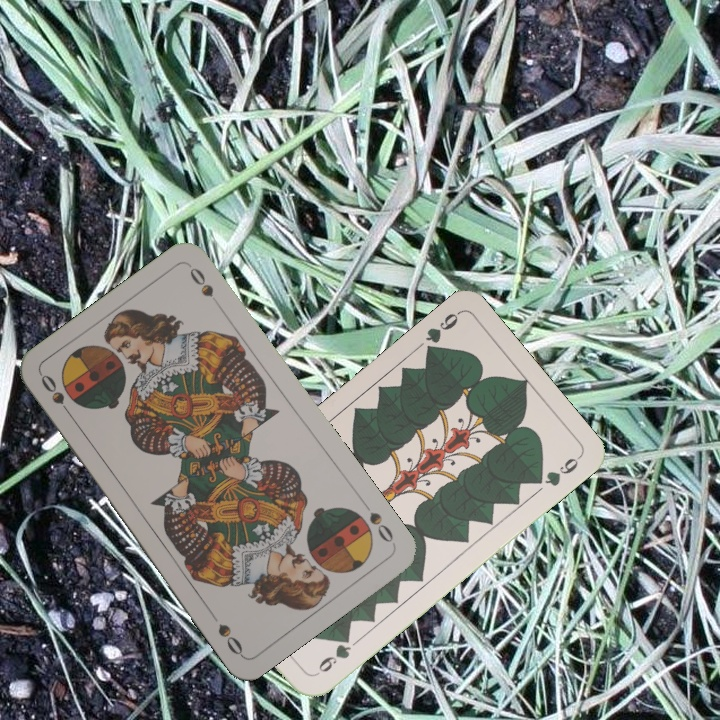G9: (308, 631, 354, 679), (421, 308, 462, 359)
SO: (36, 370, 77, 422), (365, 507, 396, 546)
